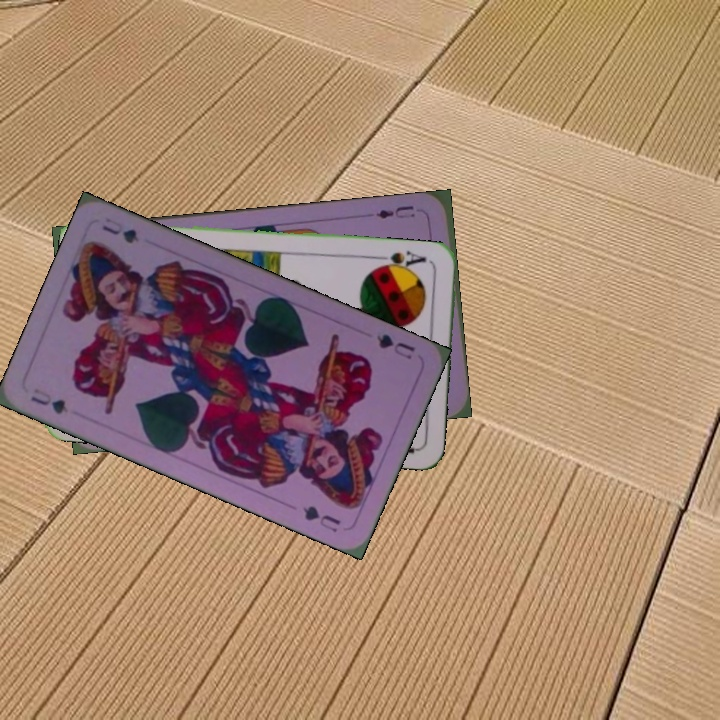EU: (372, 201, 417, 222)
GU: (372, 329, 418, 362), (27, 384, 71, 417)
SA: (373, 246, 429, 274)
